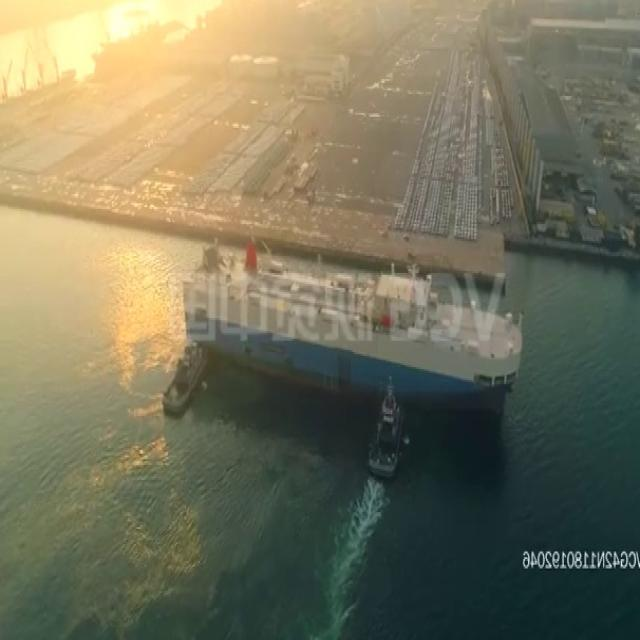cargoship: (185, 248, 532, 406)
houseboat: (163, 340, 209, 413), (368, 386, 404, 478)
